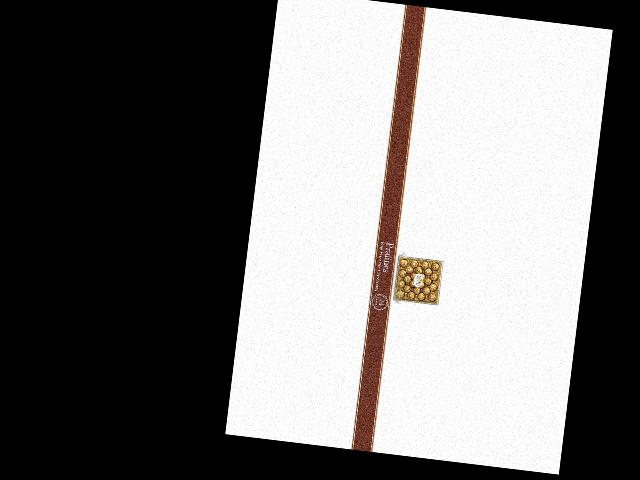chocolate: (390, 253, 446, 308)
